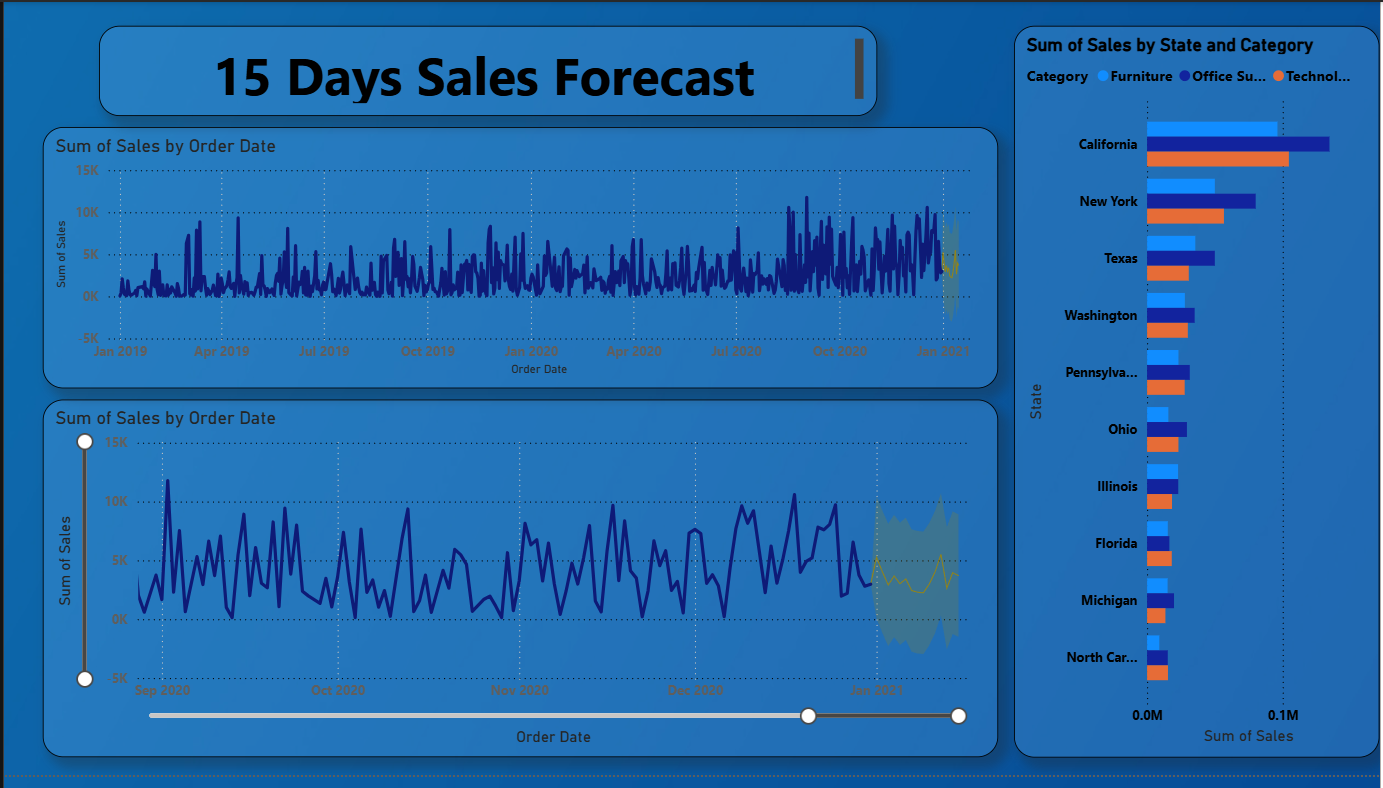

The page's visual inventory and layout, read from the dashboard file:
{"tool":"powerbi","page":{"name":"Page 2","canvas":[1280,720],"ordinal":1},"visuals":[{"type":"lineChart","fields":{"Y":["Sum(SuperStore_Sales_Dataset.Sales)"],"Category":["SuperStore_Sales_Dataset.Order Date"]},"box":[35.6,369.9,889.1,333.1],"z":0},{"type":"lineChart","fields":{"Y":["Sum(SuperStore_Sales_Dataset.Sales)"],"Category":["SuperStore_Sales_Dataset.Order Date"]},"box":[35.6,116,889.1,243.5],"z":1000},{"type":"clusteredBarChart","fields":{"Y":["Sum(SuperStore_Sales_Dataset.Sales)"],"Category":["SuperStore_Sales_Dataset.State"],"Series":["SuperStore_Sales_Dataset.Category"]},"box":[939.6,21.8,340,681.2],"z":2000},{"type":"textbox","box":[88.4,21.8,723.7,83.9],"z":3000}]}

Visuals, with their boxes in screenshot pixels (x1, y1, x2, y2), scaled from the page's 1280x720 canvas onto the 1383x788 screenshot:
lineChart - Sum(SuperStore_Sales_Dataset.Sales) x SuperStore_Sales_Dataset.Order Date: region(38, 405, 999, 769)
lineChart - Sum(SuperStore_Sales_Dataset.Sales) x SuperStore_Sales_Dataset.Order Date: region(38, 127, 999, 393)
clusteredBarChart - Sum(SuperStore_Sales_Dataset.Sales) x SuperStore_Sales_Dataset.State: region(1015, 24, 1382, 769)
textbox: region(96, 24, 877, 116)
